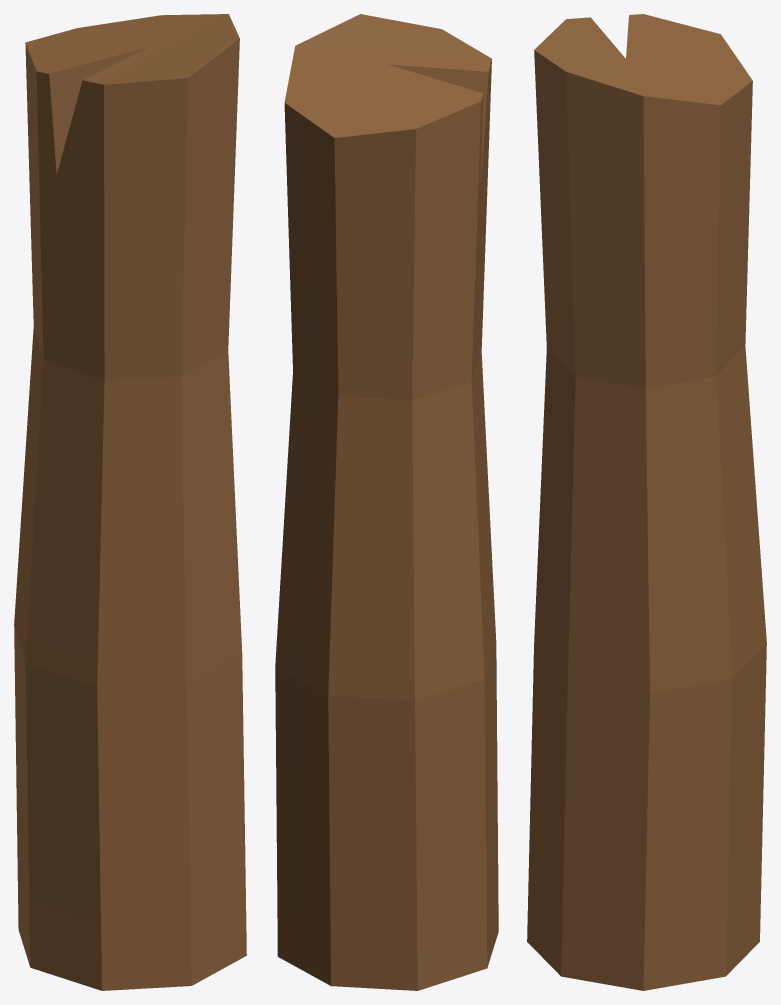
The model's file is PilierBois.fbx.
3 views of the same model, side by side, from view 1: azimuth 30°, elevation 25°; view 2: azimuth 150°, elevation 25°; view 3: azimuth 270°, elevation 25° (orthographic). The views are drawn at different scales.
Visible parts, largest first — view 1: PilierBois; view 2: PilierBois; view 3: PilierBois.
Part boxes in pixels (x1,y1,x2,y2): PilierBois: [14, 14, 246, 990]; PilierBois: [275, 14, 498, 990]; PilierBois: [527, 14, 766, 990].
Size of the model in its own units: 50.71 by 216 by 51.97.
